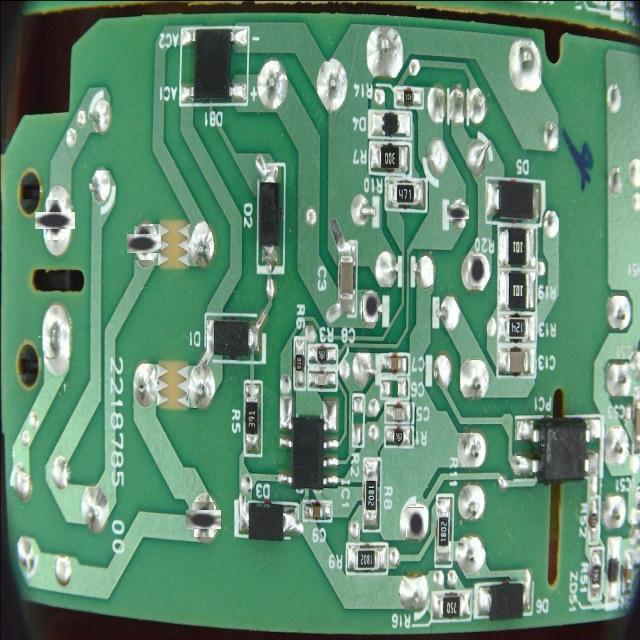damged: (40, 206, 70, 234), (190, 506, 218, 533), (131, 229, 157, 257), (406, 507, 424, 537), (468, 256, 486, 286), (362, 292, 378, 322), (448, 203, 467, 222)
